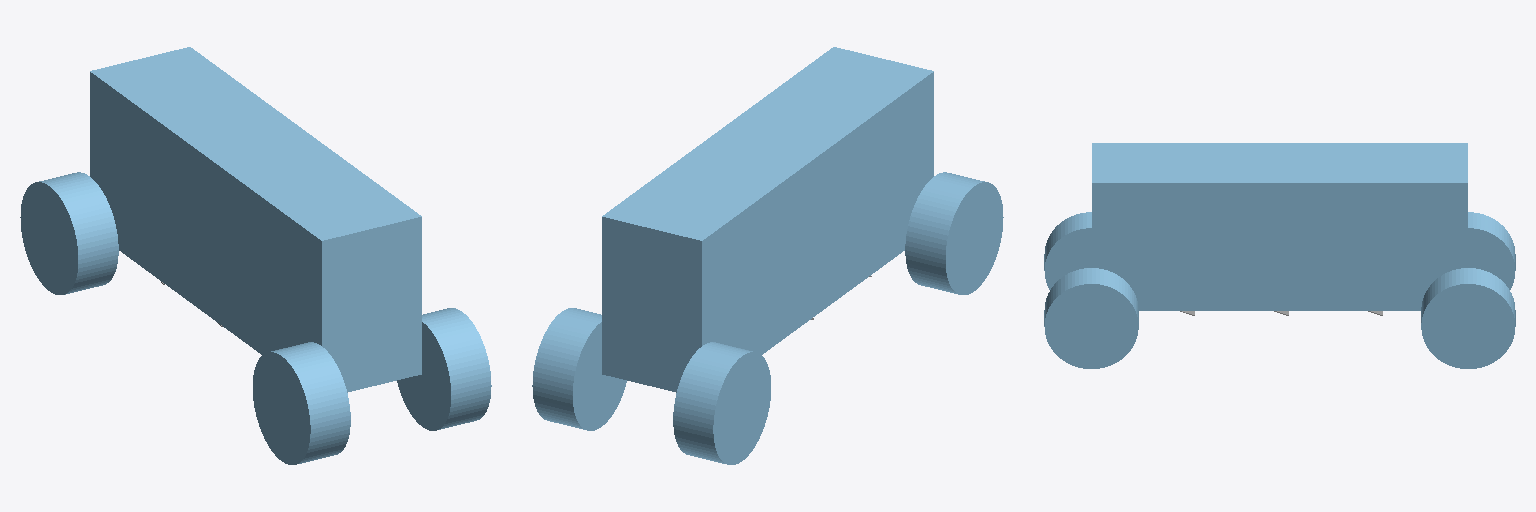
robot.urdf — tractor_robot:
<?xml version="1.0"?>
<robot name="tractor_robot">
<link name="body">
<visual>
<origin xyz="0 -1 -0.5" rpy="0 -0 0" />
<geometry>
	<mesh filename="package://my_robot_sim/urdf/rotor.stl"/>
</geometry>
<material name="rotor_material">
<color rgba="0.64705882352941179736 0.64705882352941179736 0.64705882352941179736 1.0"/>
</material>
</visual>
<collision>
<origin xyz="0 -1 -0.5" rpy="0 -0 0" />
<geometry>
	<mesh filename="package://my_robot_sim/urdf/rotor.stl"/>
</geometry>
</collision>
<visual>
<origin xyz="0 0 -0.5" rpy="0 -0 0" />
<geometry>
	<mesh filename="package://my_robot_sim/urdf/body.stl"/>
</geometry>
<material name="body_material">
<color rgba="0.61568627450980395466 0.81176470588235294379 0.92941176470588238168 1.0"/>
</material>
</visual>
<collision>
<origin xyz="0 0 -0.5" rpy="0 -0 0" />
<geometry>
	<mesh filename="package://my_robot_sim/urdf/body.stl"/>
</geometry>
</collision>
<visual>
<origin xyz="0 0.99999999999999988898 -0.5" rpy="0 -0 0" />
<geometry>
	<mesh filename="package://my_robot_sim/urdf/tractor/rotor.stl"/>
</geometry>
<material name="rotor_material">
<color rgba="0.64705882352941179736 0.64705882352941179736 0.64705882352941179736 1.0"/>
</material>
</visual>
<collision>
<origin xyz="0 0.99999999999999988898 -0.5" rpy="0 -0 0" />
<geometry>
	<mesh filename="package://my_robot_sim/urdf/rotor.stl"/>
</geometry>
</collision>
<visual>
<origin xyz="0 5.2047488963762519317e-18 -0.5" rpy="0 -0 0" />
<geometry>
	<mesh filename="package://my-robot_sim/urdf/tractor/rotor.stl"/>
</geometry>
<material name="rotor_material">
<color rgba="0.64705882352941179736 0.64705882352941179736 0.64705882352941179736 1.0"/>
</material>
</visual>
<collision>
<origin xyz="0 5.2047488963762519317e-18 -0.5" rpy="0 -0 0" />
<geometry>
	<mesh filename="package://my_robot_sim/urdf/rotor.stl"/>
</geometry>
</collision>
<inertial>
<origin xyz="2.4556418921628688724e-17 3.1865973988143852753e-16 0.61505694542073752196" rpy="0 0 0"/>
<mass value="19739.303695107002568" />
<inertia ixx="40377.942149105809222" ixy="-4.016515401078878106e-05"  ixz="1.888597557398338714e-14" iyy="7956.2824525604901282" iyz="2.1501931189513091568e-12" izz="38541.734627954705502" />
</inertial>
</link>


</robot>

--- Facts derived from the render (not from the file) ---
3 views of the same robot in one strip: view 1: azimuth 30°, elevation 25°; view 2: azimuth 150°, elevation 25°; view 3: azimuth 270°, elevation 25° (orthographic).
Model tractor_robot with 1 links and 0 joints (none), rooted at body, posed every joint at zero.
Links seen in each view (by area): view 1: body; view 2: body; view 3: body.
Boxes of the visible links, x1,y1,x2,y2 form: body: [20, 47, 491, 464]; body: [532, 47, 1003, 464]; body: [1044, 143, 1515, 368].
Bounding box of the posed robot: 1.8 × 5 × 2 m (x, y, z).
4 mesh visuals loaded from 4 distinct referenced files (2 binary STL).